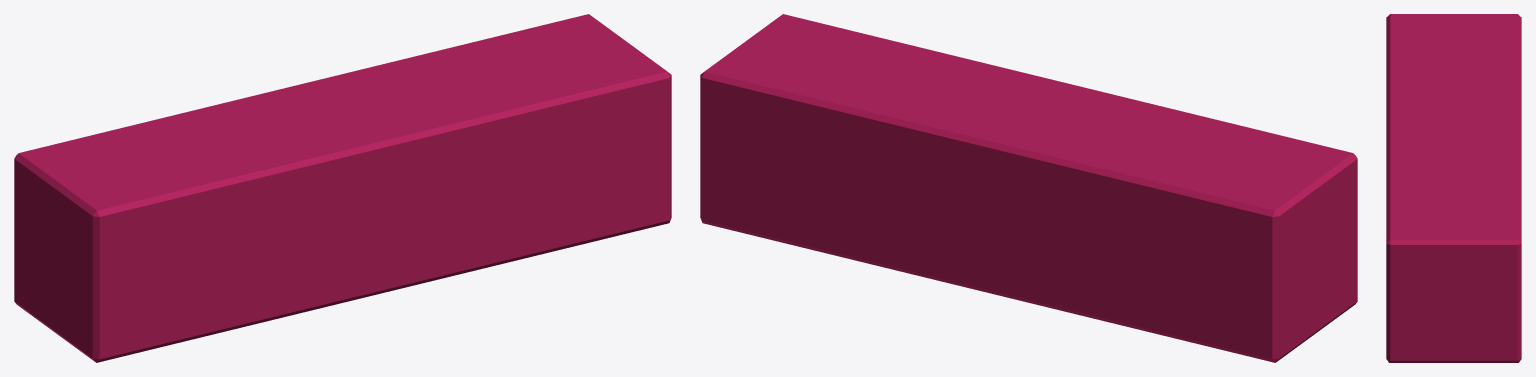
Rendered from Part_4X1_simple.FBX.
The picture shows the model from 3 angles, left to right: view 1: azimuth 30°, elevation 25°; view 2: azimuth 150°, elevation 25°; view 3: azimuth 270°, elevation 25°; orthographic projection. The views are drawn at different scales.
Visible parts, largest first — view 1: Part_4X1_simple; view 2: Part_4X1_simple; view 3: Part_4X1_simple.
Boxes of the visible parts, x1,y1,x2,y2 form: Part_4X1_simple: [14, 14, 671, 362]; Part_4X1_simple: [700, 14, 1357, 362]; Part_4X1_simple: [1386, 14, 1521, 362].
Bounding box in the file's own units: 400 × 100 × 100.
